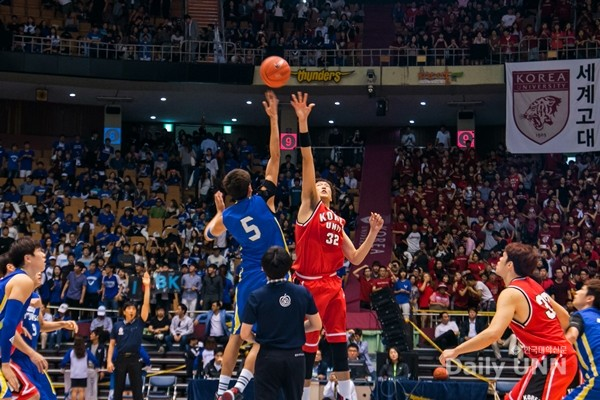ball: (249, 48, 299, 90)
rebound: (252, 44, 390, 397), (205, 49, 295, 395)
stand: (457, 228, 586, 400)
